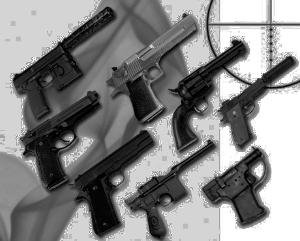handgun: (108, 8, 208, 125), (14, 3, 117, 114), (168, 35, 260, 144), (13, 87, 100, 199), (127, 136, 215, 240), (76, 129, 161, 235), (222, 56, 298, 143), (200, 149, 278, 231)
